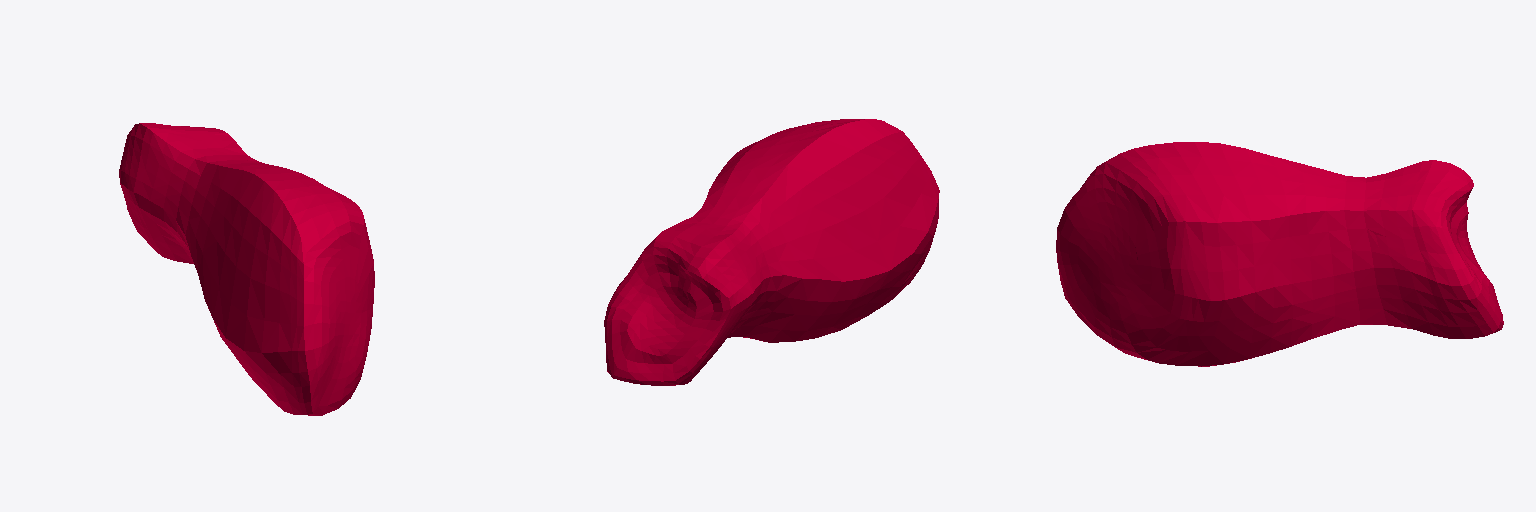
File: R_U_Leg.obj
3 views of the same model, side by side, from view 1: azimuth 30°, elevation 25°; view 2: azimuth 150°, elevation 25°; view 3: azimuth 270°, elevation 25° (orthographic).
Parts seen in each view (by area): view 1: R_U_Leg_Alpha_Surface.007; view 2: R_U_Leg_Alpha_Surface.007; view 3: R_U_Leg_Alpha_Surface.007.
Part boxes in pixels (bbox=[...]): R_U_Leg_Alpha_Surface.007: bbox=[119, 123, 374, 415]; R_U_Leg_Alpha_Surface.007: bbox=[604, 119, 939, 385]; R_U_Leg_Alpha_Surface.007: bbox=[1056, 142, 1503, 366].
Bounding box in the file's own units: 0.184 × 0.2293 × 0.4534.